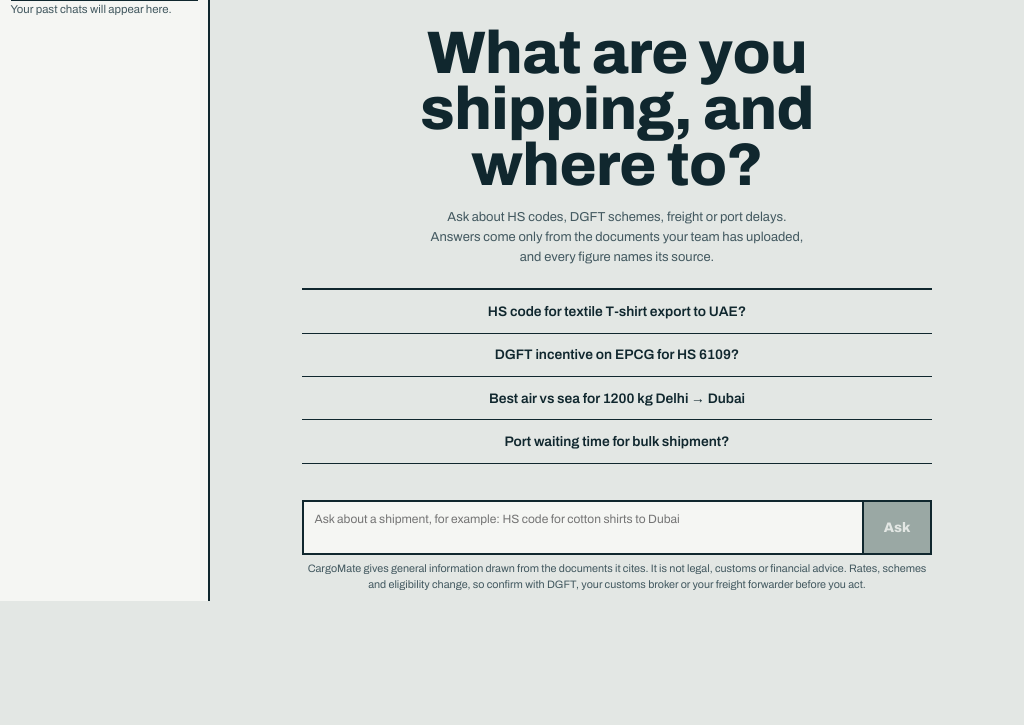
Test: Chat: dynamic replies › shows the disclaimer once under the composer, before and after replies, not inside them
The width and height of the screenshot is (1024, 725).
Check: the text "not legal, customs or financial advice" is shown once, box left=302, top=562, right=932, bottom=592
In the text box named "Your question": (583, 528) left=304, top=502, right=862, bottom=554, type "hs code"
Then press Enter
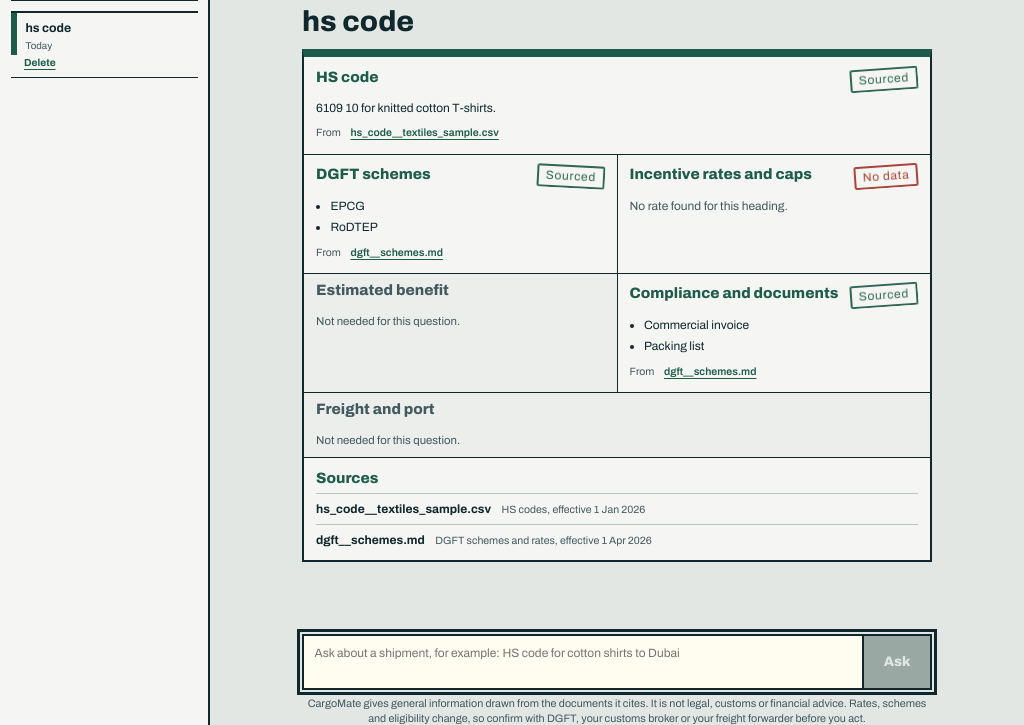
Check: the heading "HS code" is shown, box left=316, top=68, right=379, bottom=86
In the text box named "Your question": (583, 662) left=304, top=636, right=862, bottom=688, type "what about sea?"
Then press Enter
(page scrolled)
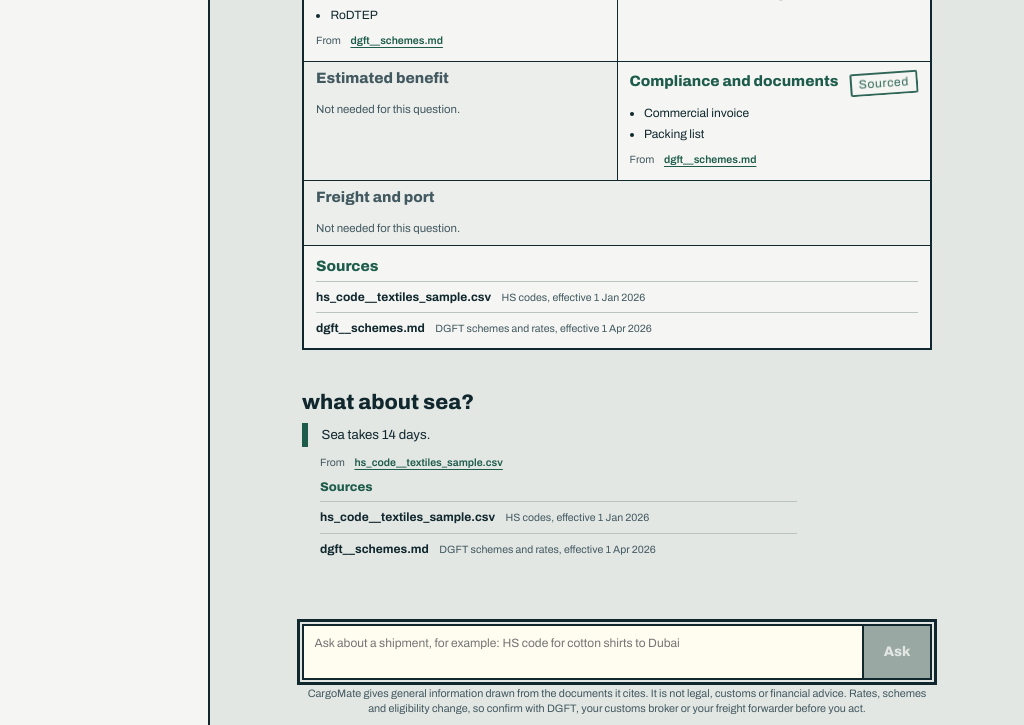
Check: the text "not legal, customs or financial advice" is shown once, box left=302, top=686, right=932, bottom=716
Check: the element with class "reply" is shown, box left=302, top=423, right=797, bottom=564
